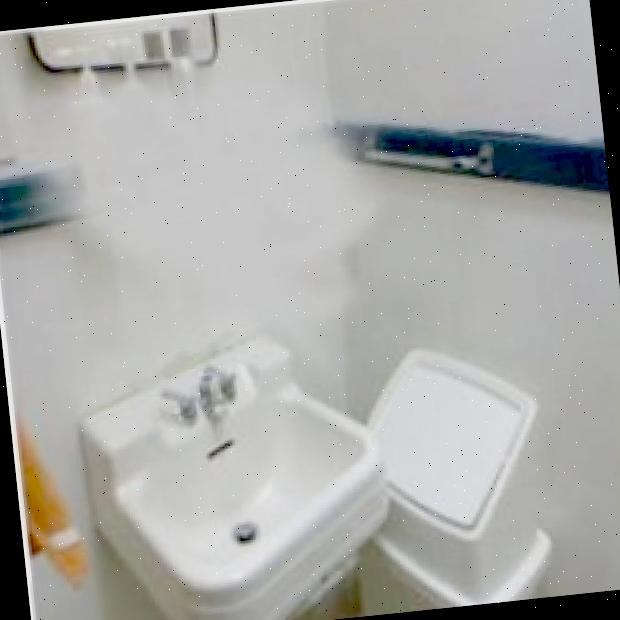smoke: (0, 19, 420, 426)
